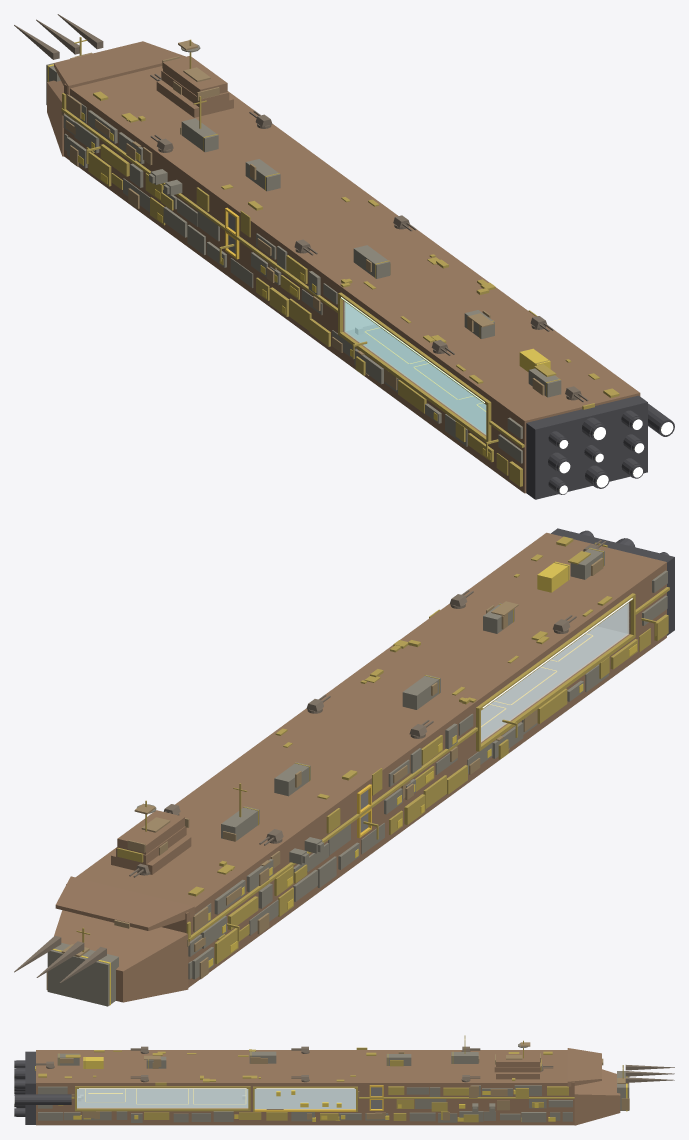
File: ship_LARGE.glb
3 views of the same model, one above another, from view 1: azimuth 30°, elevation 25°; view 2: azimuth 150°, elevation 25°; view 3: azimuth 270°, elevation 25° (orthographic). The views are drawn at different scales.
Parts seen in each view (by area): view 1: LARGE_Hull-col, LARGE_Armor, LARGE_Engines, LARGE_Trim, LARGE_HangarShield_Port, LARGE_Decks-col, LARGE_ScrapPlates, LARGE_Details, LARGE_Accent, LARGE_ScrapTrim, LARGE_RamSpikes, LARGE_EngineGlow (+1 smaller); view 2: LARGE_Hull-col, LARGE_Armor, LARGE_Trim, LARGE_HangarShield_Port, LARGE_Decks-col, LARGE_ScrapPlates, LARGE_Accent, LARGE_Details, LARGE_Engines, LARGE_ScrapTrim, LARGE_RamSpikes, LARGE_Hazard; view 3: LARGE_Hull-col, LARGE_Armor, LARGE_Trim, LARGE_HangarShield_Starboard, LARGE_Decks-col, LARGE_CargoBayShield, LARGE_CargoBayDoor-col, LARGE_Engines, LARGE_ScrapPlates, LARGE_Accent, LARGE_ScrapTrim, LARGE_Hazard (+3 smaller).
Boxes of the visible parts, x1,y1,x2,y2 form: LARGE_Hull-col: (47,41,640,493); LARGE_Armor: (46,43,561,463); LARGE_Engines: (526,395,674,499); LARGE_Trim: (61,39,560,486); LARGE_HangarShield_Port: (344,301,486,434); LARGE_Decks-col: (346,324,486,433); LARGE_ScrapPlates: (61,40,559,395); LARGE_Details: (93,91,619,397); LARGE_Accent: (47,64,550,459); LARGE_ScrapTrim: (62,37,594,441); LARGE_RamSpikes: (14,14,103,59); LARGE_EngineGlow: (559,419,673,494); LARGE_Hull-col: (54,532,666,1002); LARGE_Armor: (47,547,667,1006); LARGE_Trim: (145,548,669,963); LARGE_HangarShield_Port: (481,603,628,741); LARGE_Decks-col: (481,626,626,740); LARGE_ScrapPlates: (46,550,603,990); LARGE_Accent: (52,561,636,1005); LARGE_Details: (188,536,612,896); LARGE_Engines: (551,528,674,635); LARGE_ScrapTrim: (76,542,609,951); LARGE_RamSpikes: (14,936,106,983); LARGE_Hazard: (357,633,592,838); LARGE_Hull-col: (36,1048,620,1125); LARGE_Armor: (38,1043,629,1122); LARGE_Trim: (58,1040,574,1120); LARGE_HangarShield_Starboard: (77,1089,248,1108); LARGE_Decks-col: (77,1089,248,1107); LARGE_CargoBayShield: (254,1089,355,1109); LARGE_CargoBayDoor-col: (254,1089,355,1108); LARGE_Engines: (14,1051,71,1124); LARGE_ScrapPlates: (60,1042,629,1120); LARGE_Accent: (73,1057,627,1121); LARGE_ScrapTrim: (35,1035,623,1122); LARGE_Hazard: (85,1085,383,1111).
Size of the model in its own units: 27.7 by 24.8 by 185.
